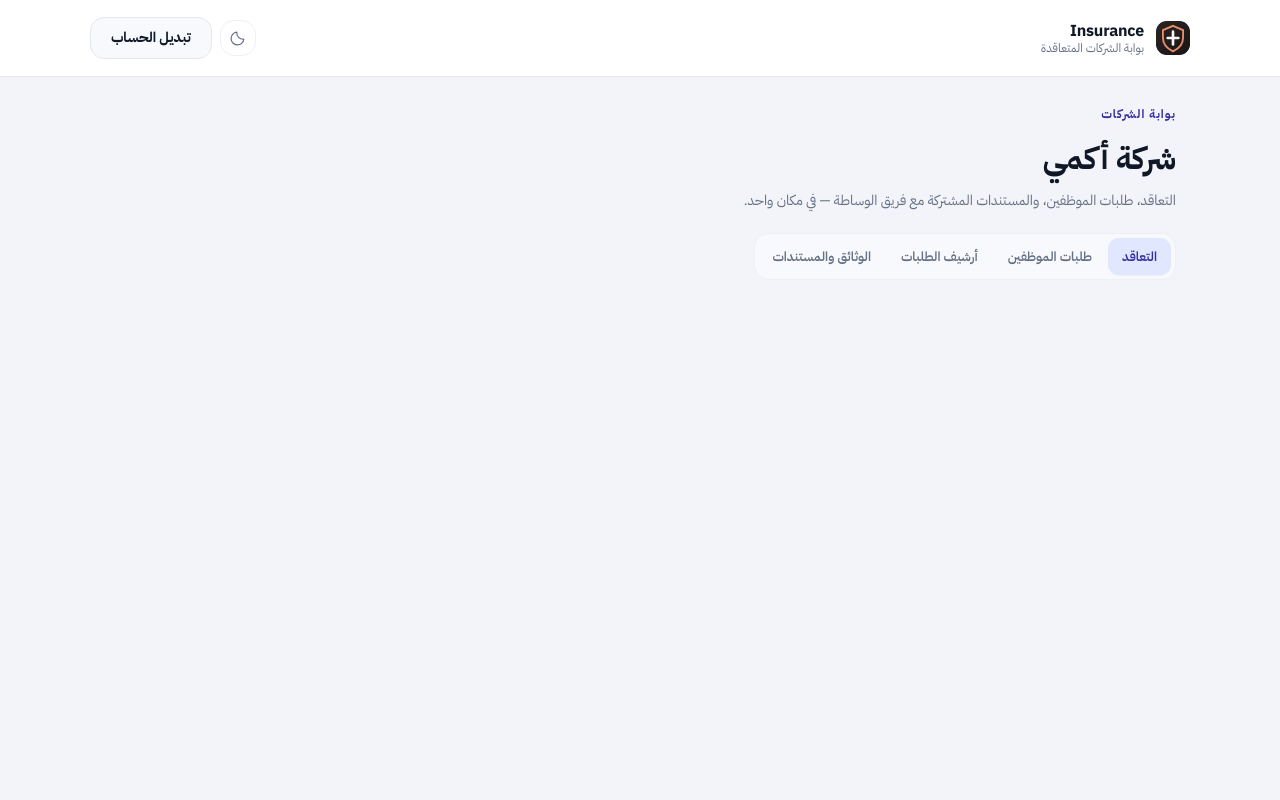
Test: corporate portal › tells the user when a name matches nobody
Expected: the heading "شركة أكمي" is shown, [1043, 135, 1176, 182]
Click the button "طلبات الموظفين" at (1050, 256), box [994, 238, 1106, 275]
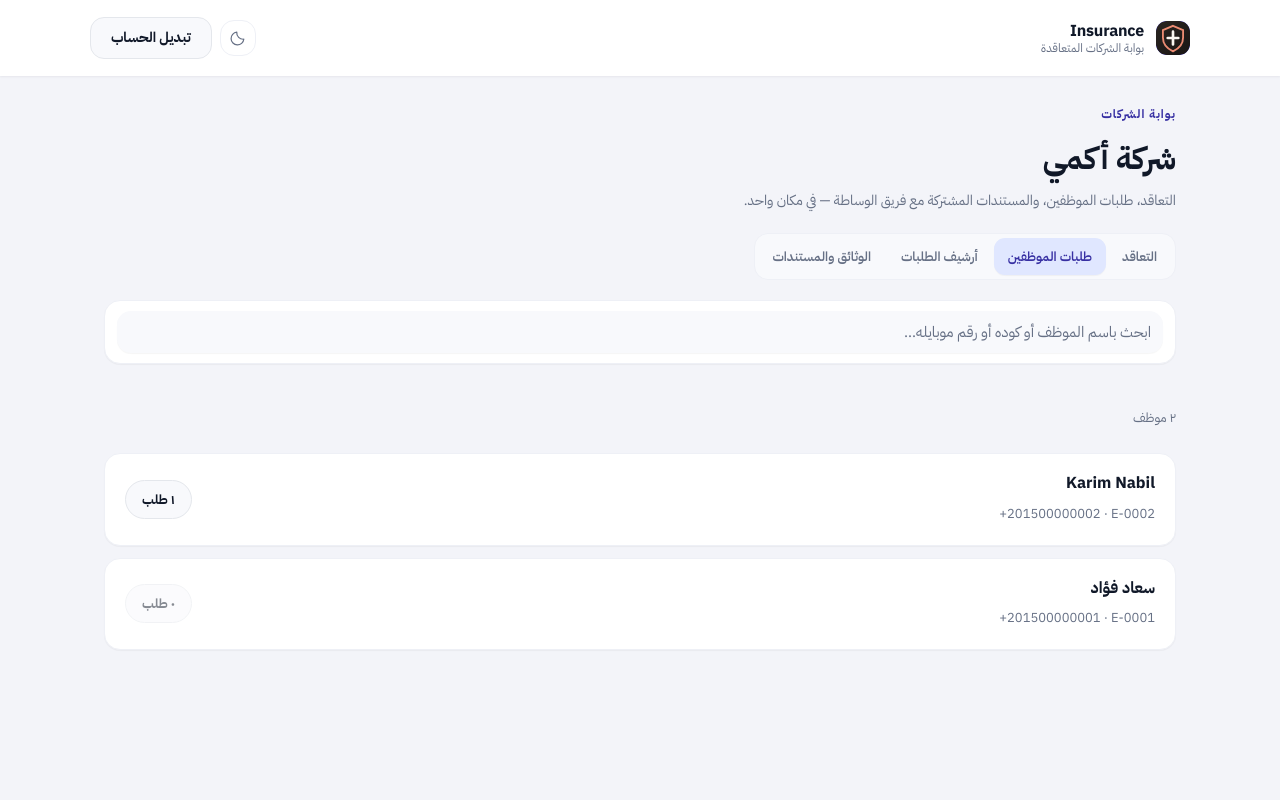
Result: the heading "Karim Nabil" is shown at [1066, 471, 1155, 495]
Type "zzz" into the search field labelled "بحث باسم الموظف" at (640, 332), box [117, 311, 1163, 353]
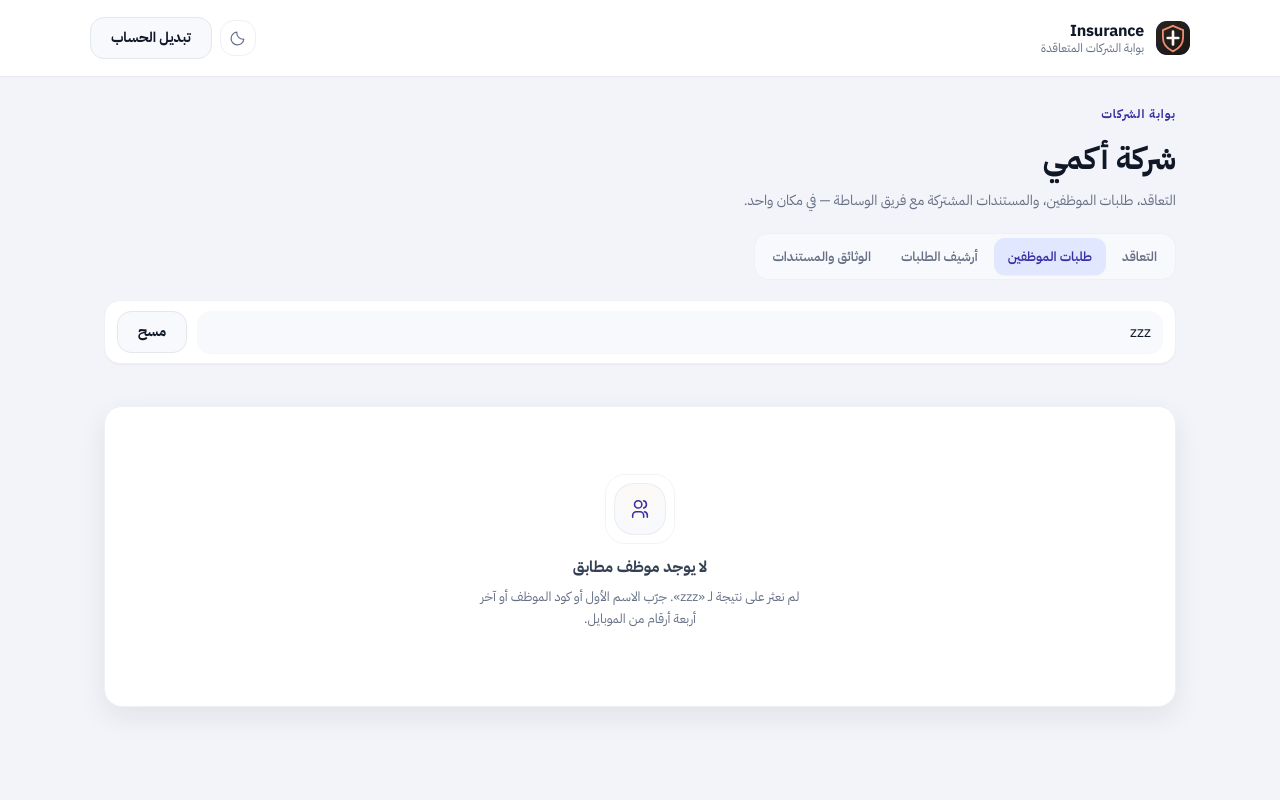
Result: the text "لا يوجد موظف مطابق" is shown at [573, 553, 707, 580]
